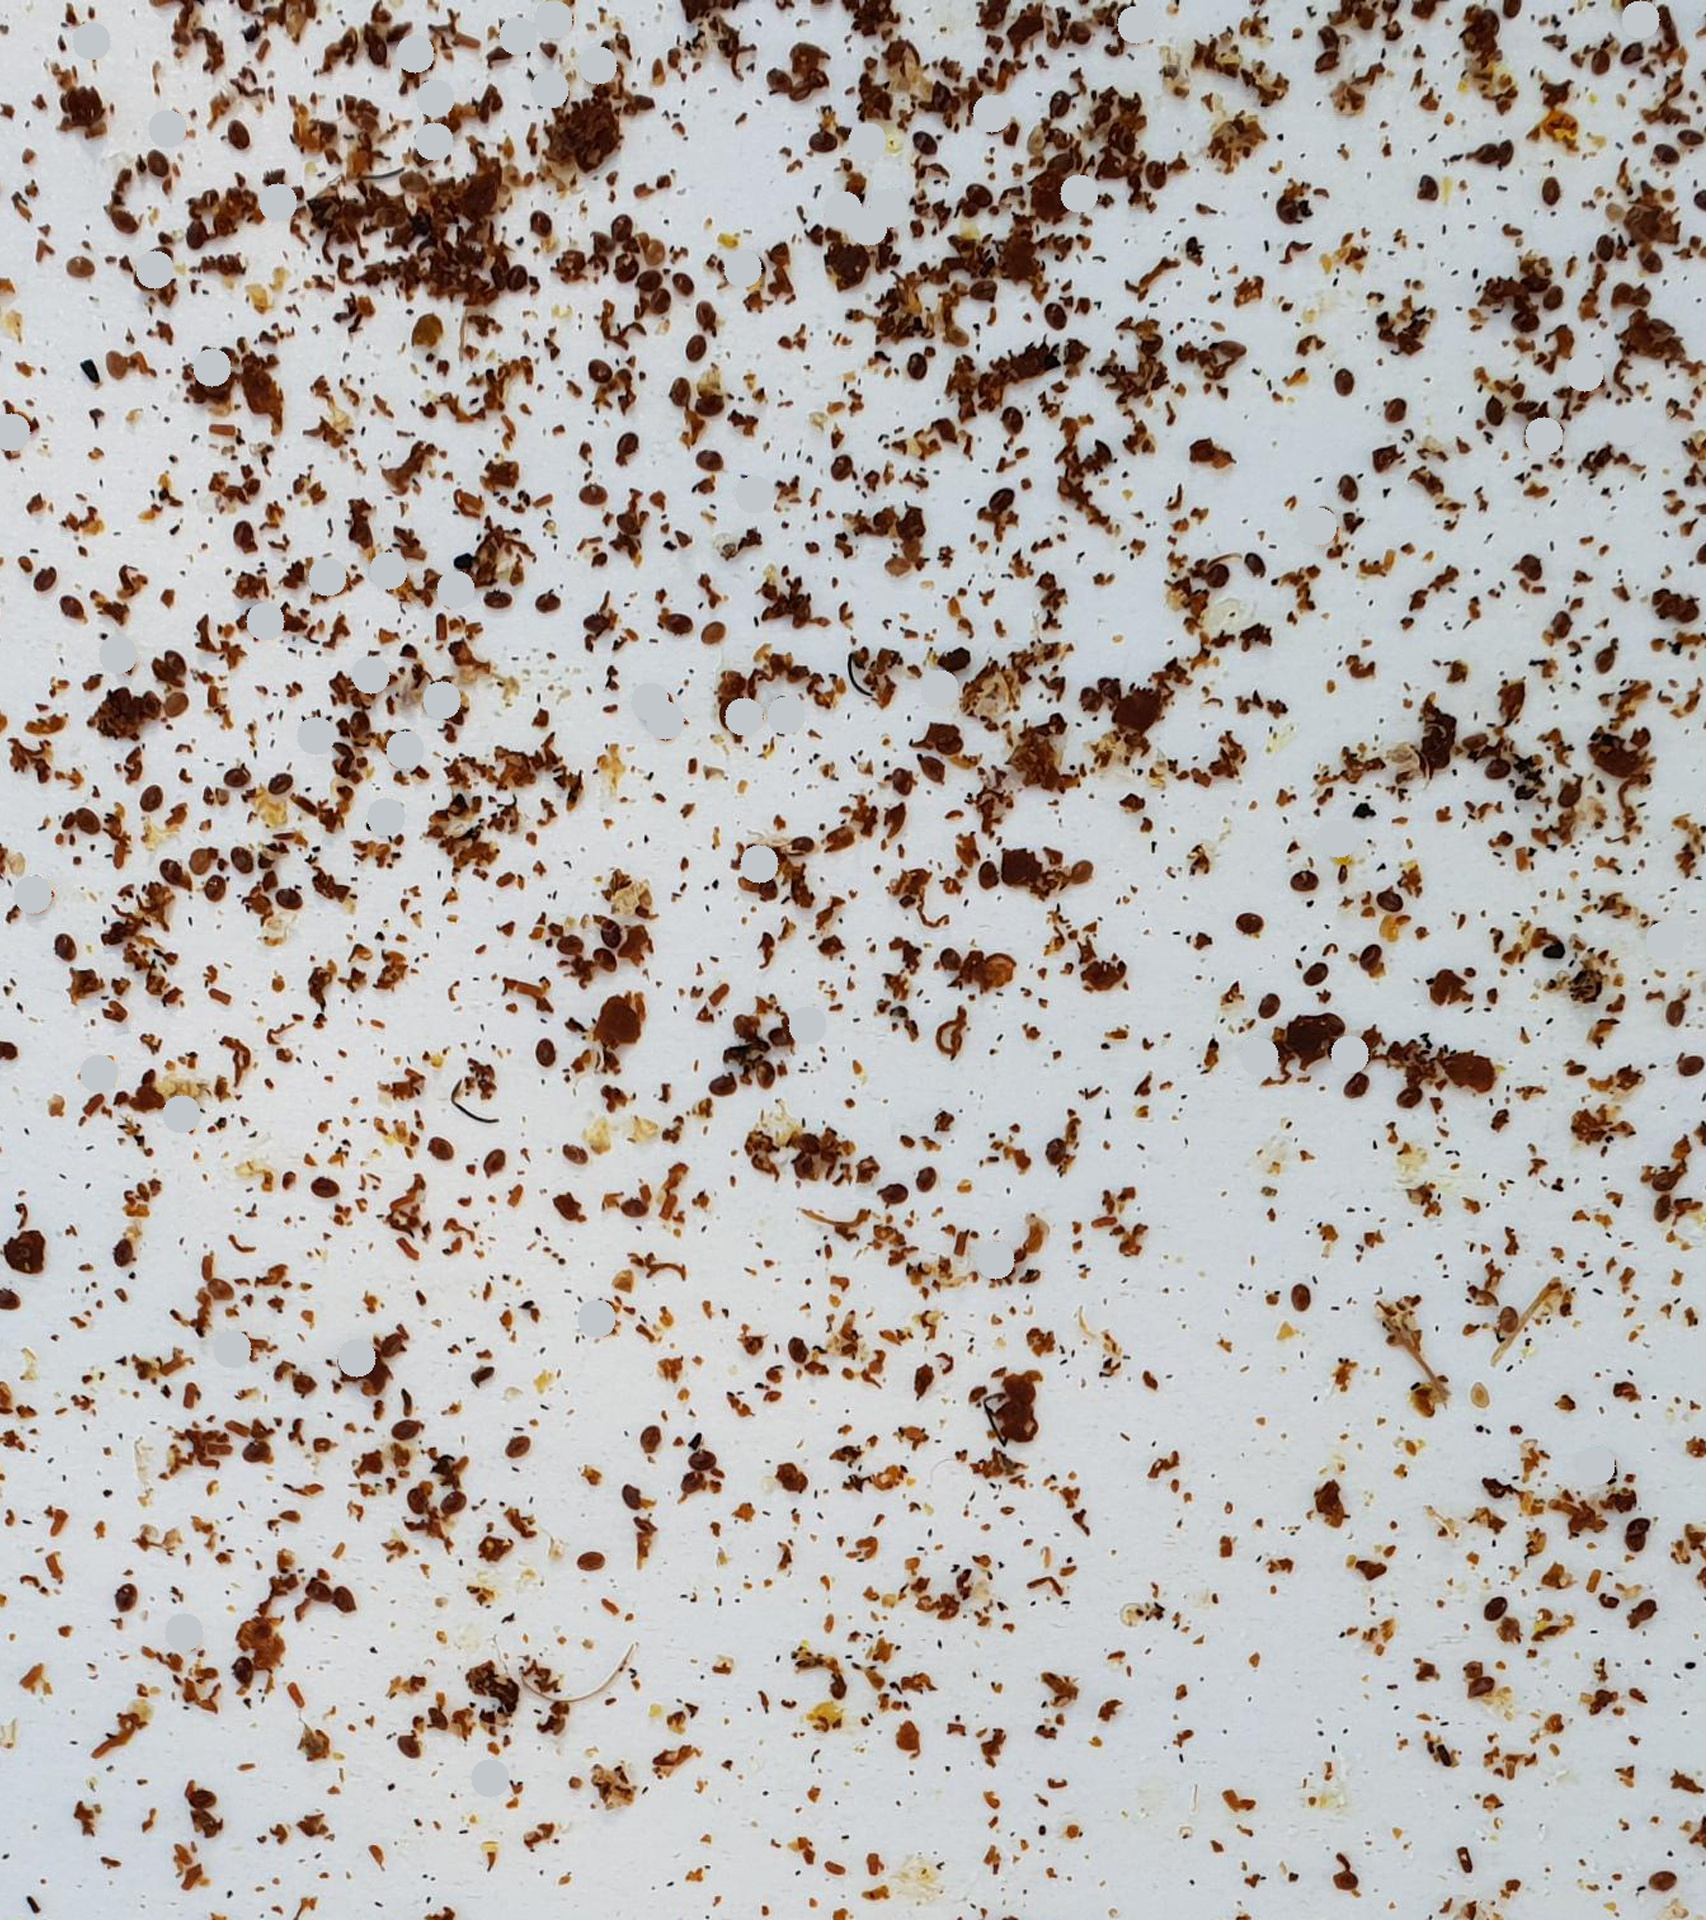Varroa: (1335, 1064, 1378, 1107), (431, 1480, 474, 1523), (662, 262, 705, 303), (637, 278, 680, 319), (1130, 323, 1171, 366), (586, 939, 627, 981), (757, 1014, 800, 1056), (372, 1322, 413, 1365), (685, 291, 726, 333), (659, 370, 700, 412), (194, 864, 235, 906), (618, 1195, 647, 1227), (562, 1136, 593, 1166), (1079, 683, 1108, 713), (109, 1237, 137, 1268), (594, 914, 626, 942), (1540, 283, 1568, 315), (1331, 1867, 1359, 1897), (622, 1485, 650, 1515), (1060, 15, 1088, 44), (1355, 945, 1383, 975), (28, 558, 56, 588), (1648, 1184, 1676, 1214), (156, 848, 184, 878), (156, 652, 186, 680), (583, 606, 609, 637), (1591, 645, 1619, 673), (1484, 142, 1512, 170), (1467, 1670, 1495, 1698), (142, 151, 170, 179), (553, 929, 581, 957), (361, 35, 389, 63), (1541, 604, 1569, 632), (782, 1337, 810, 1363), (1540, 179, 1568, 206), (1625, 1518, 1652, 1546), (502, 268, 529, 296), (324, 1579, 352, 1605), (810, 127, 837, 155), (1301, 962, 1327, 990), (1197, 565, 1224, 593), (698, 385, 725, 413), (229, 843, 257, 869), (935, 729, 963, 756), (184, 222, 211, 250), (1638, 247, 1666, 273), (766, 68, 795, 92), (1276, 196, 1303, 222), (695, 614, 721, 641), (1288, 1288, 1312, 1316), (104, 351, 128, 379), (204, 1273, 232, 1298), (881, 1182, 906, 1210), (1046, 1138, 1069, 1167), (54, 935, 79, 962), (311, 1176, 338, 1200), (191, 1785, 216, 1811), (1494, 1306, 1520, 1330), (935, 947, 962, 972), (1335, 473, 1362, 497), (888, 772, 912, 799), (1592, 49, 1617, 76), (980, 860, 1006, 884), (529, 212, 553, 239), (267, 771, 291, 797), (1518, 553, 1541, 581), (1378, 888, 1401, 916), (399, 1410, 423, 1434), (1652, 1871, 1676, 1895), (231, 524, 255, 548), (1482, 398, 1507, 423), (616, 430, 641, 454), (914, 137, 939, 161), (916, 1167, 940, 1192), (486, 588, 510, 613), (756, 1060, 781, 1085), (244, 1438, 267, 1464), (1069, 856, 1092, 883), (1288, 869, 1311, 896), (1255, 991, 1278, 1018), (790, 837, 817, 860), (990, 487, 1013, 512), (580, 1548, 603, 1573), (76, 810, 100, 833), (1415, 175, 1439, 198), (232, 1660, 255, 1685), (637, 1428, 660, 1452), (68, 254, 92, 277), (613, 214, 636, 239), (507, 1434, 530, 1457), (1485, 1596, 1508, 1619), (833, 456, 856, 479), (590, 361, 613, 384), (692, 1451, 715, 1474), (399, 1732, 422, 1755), (1383, 397, 1406, 420), (534, 1037, 557, 1060), (1243, 552, 1266, 575), (1592, 235, 1615, 259), (972, 282, 995, 305), (280, 889, 303, 912), (59, 598, 82, 621), (1003, 410, 1024, 435), (142, 789, 163, 813), (1148, 161, 1169, 186), (667, 611, 688, 636), (1400, 1083, 1421, 1108), (1513, 308, 1538, 329), (1559, 779, 1579, 805), (431, 1135, 454, 1156), (229, 123, 250, 147), (1485, 757, 1508, 779), (115, 1582, 138, 1604), (1051, 92, 1072, 115), (1680, 1054, 1703, 1075), (110, 211, 133, 232), (160, 693, 183, 715), (685, 339, 706, 362), (486, 1146, 506, 1171), (1238, 909, 1260, 930), (1047, 301, 1069, 323), (967, 184, 988, 206), (907, 357, 929, 379), (1663, 1003, 1685, 1024), (222, 762, 244, 784), (537, 590, 557, 613), (580, 486, 603, 506), (1332, 375, 1354, 395), (1660, 138, 1681, 158), (716, 1069, 736, 1088), (698, 454, 720, 473)
